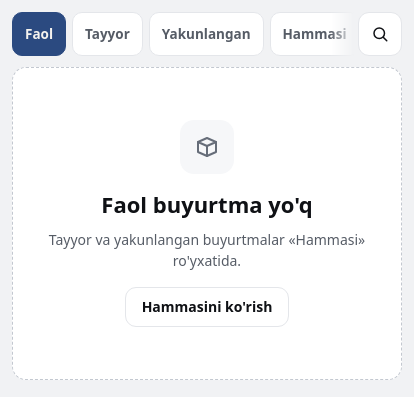
Test: ClientOrdersView — the Faol empty state (decision 28) › keeps the first-run empty state for Hammasi with nothing at all
This screenshot has width=414, height=397.
What coordinates should you click on to do the following:
click the radio button labelled "Hammasi"
I would click on:
 (314, 34)
Its box is [270,12,360,56].
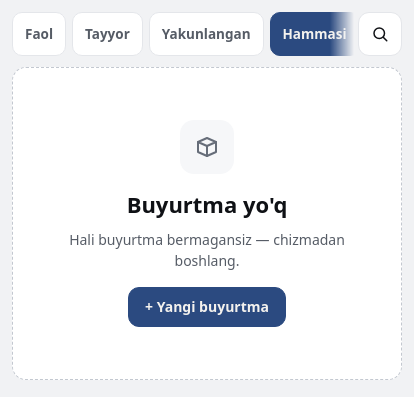
Check: the text "Buyurtma yo'q" is shown, box [127,189,287,219]
Check: the text "Faol buyurtma yo'q" is gone
